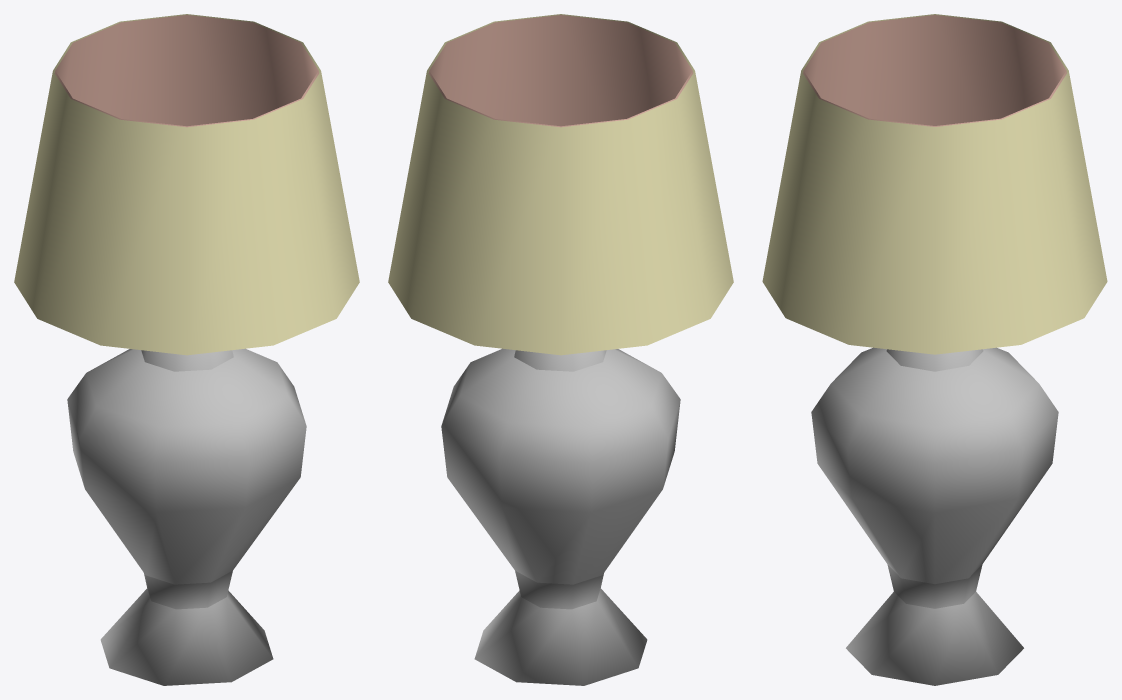
Rendered from short_lamp_2.0.glb.
The picture shows the model from 3 angles, left to right: view 1: azimuth 30°, elevation 25°; view 2: azimuth 150°, elevation 25°; view 3: azimuth 270°, elevation 25°; orthographic projection.
Parts seen in each view (by area): view 1: lamp_001; view 2: lamp_001; view 3: lamp_001.
Boxes of the visible parts, <box> form: lamp_001: <box>14,14,359,685</box>; lamp_001: <box>388,14,733,685</box>; lamp_001: <box>762,14,1107,685</box>.
Size of the model in its own units: 0.3019 by 0.5576 by 0.3019.
1 material, 1 textured.
